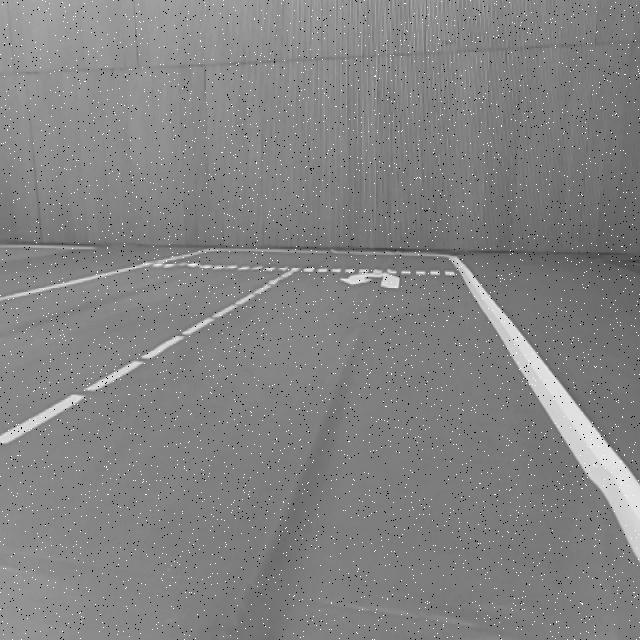left_lane: (1, 270, 296, 452)
right_lane: (454, 255, 640, 564), (0, 249, 207, 303)
